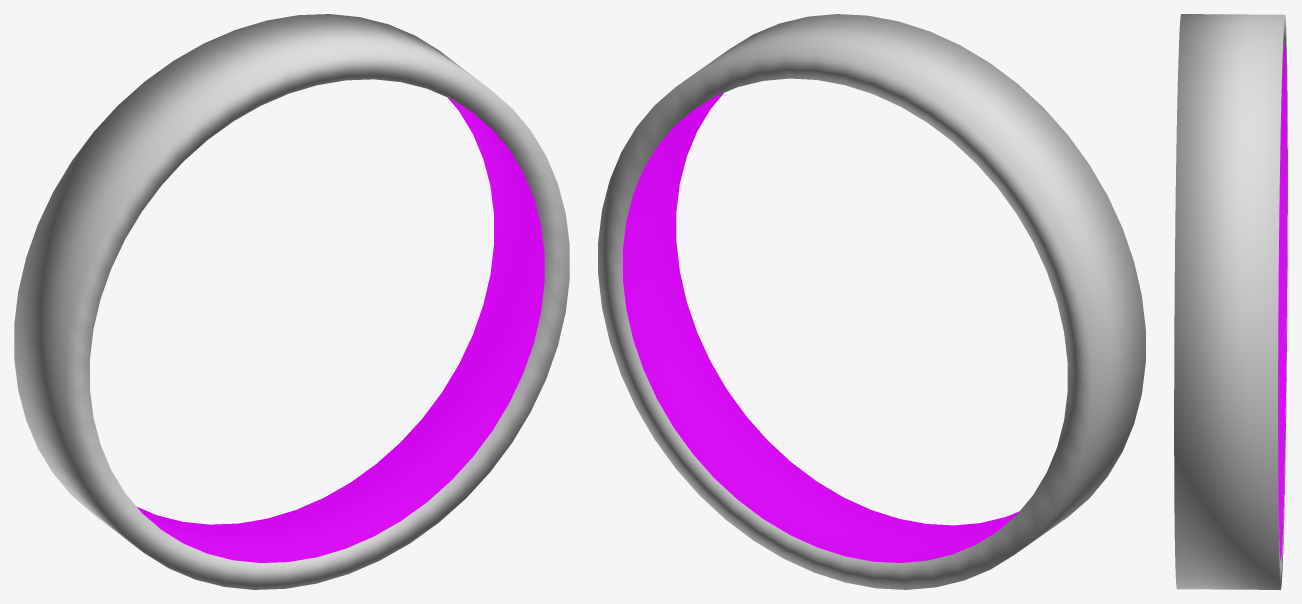
Rendered from anillos.glb.
3 renders of one model, left to right at view 1: azimuth 30°, elevation 25°; view 2: azimuth 150°, elevation 25°; view 3: azimuth 270°, elevation 25°, orthographic.
Visible parts, largest first — view 1: Cylinder; view 2: Cylinder; view 3: Cylinder.
Boxes of the visible parts, x1,y1,x2,y2 form: Cylinder: (14,14,569,589); Cylinder: (598,14,1145,589); Cylinder: (1174,14,1287,589).
Bounding box in the file's own units: 2.04 × 2.04 × 0.402.
